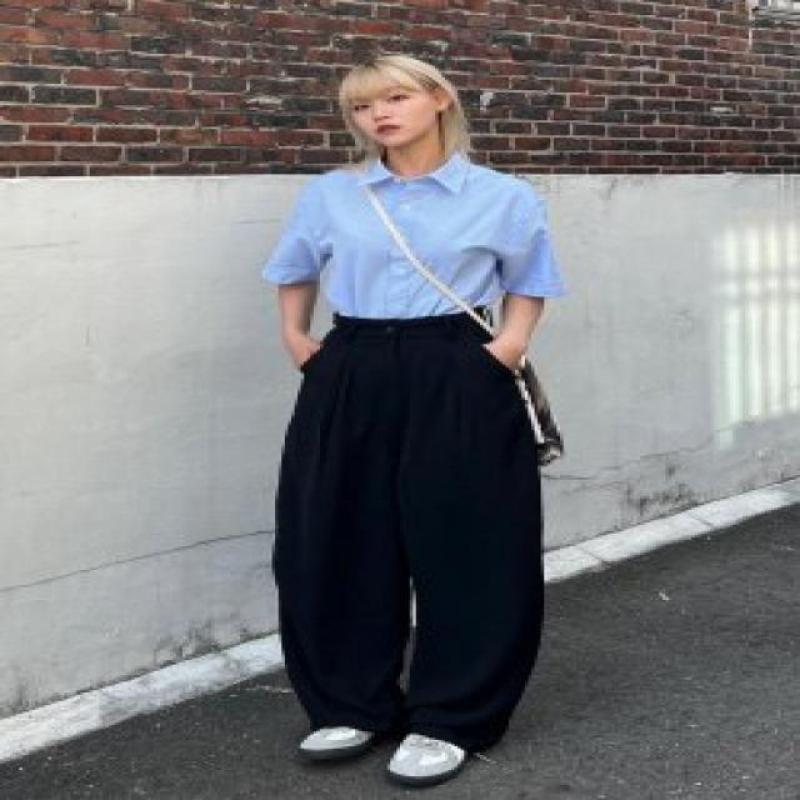short sleeve shirt: (258, 153, 571, 326)
trousers: (273, 311, 546, 758)
